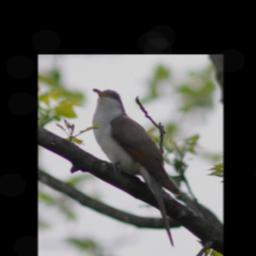Cuckoo: (91, 88, 182, 250)
